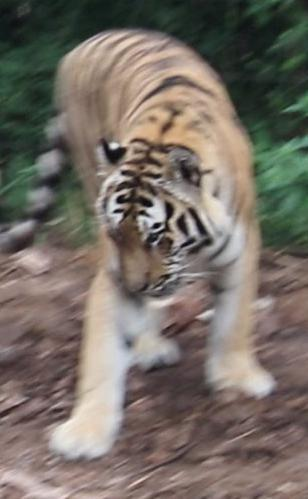tiger: (50, 29, 275, 457)
